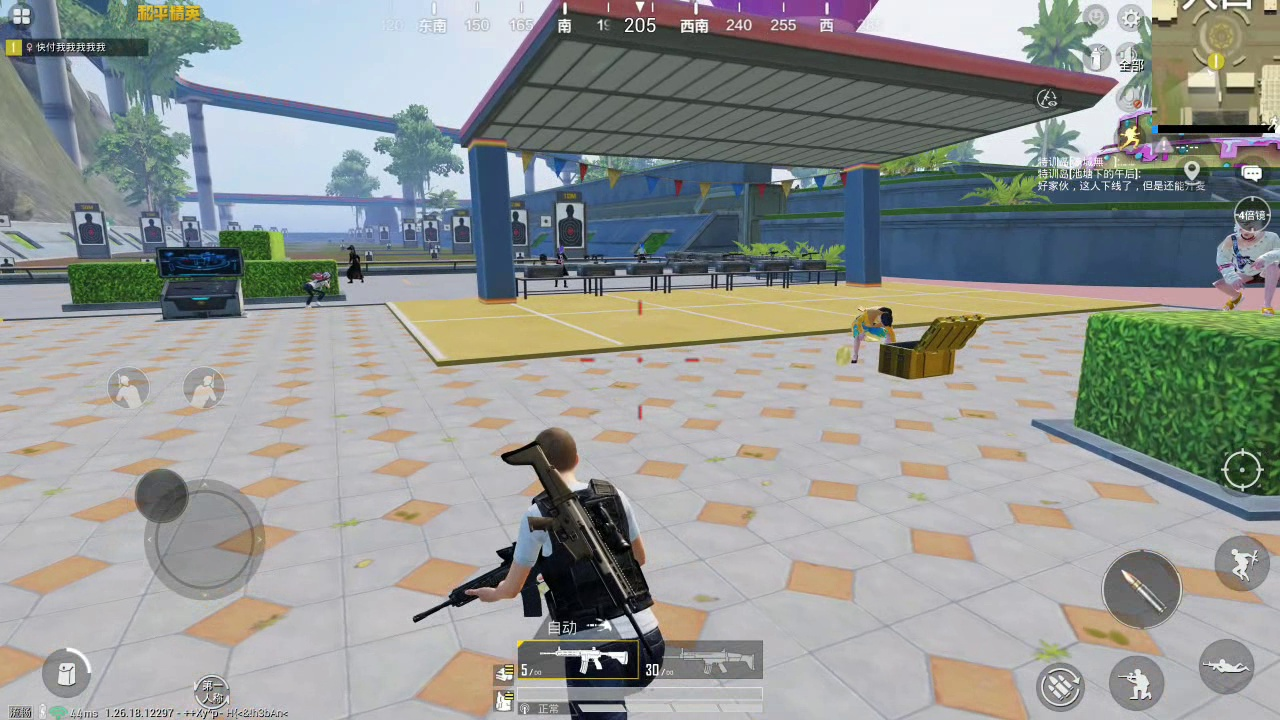enemy: (1213, 211, 1280, 313), (848, 303, 897, 365), (303, 267, 333, 310), (551, 241, 572, 287), (342, 242, 364, 283), (633, 241, 649, 264)
